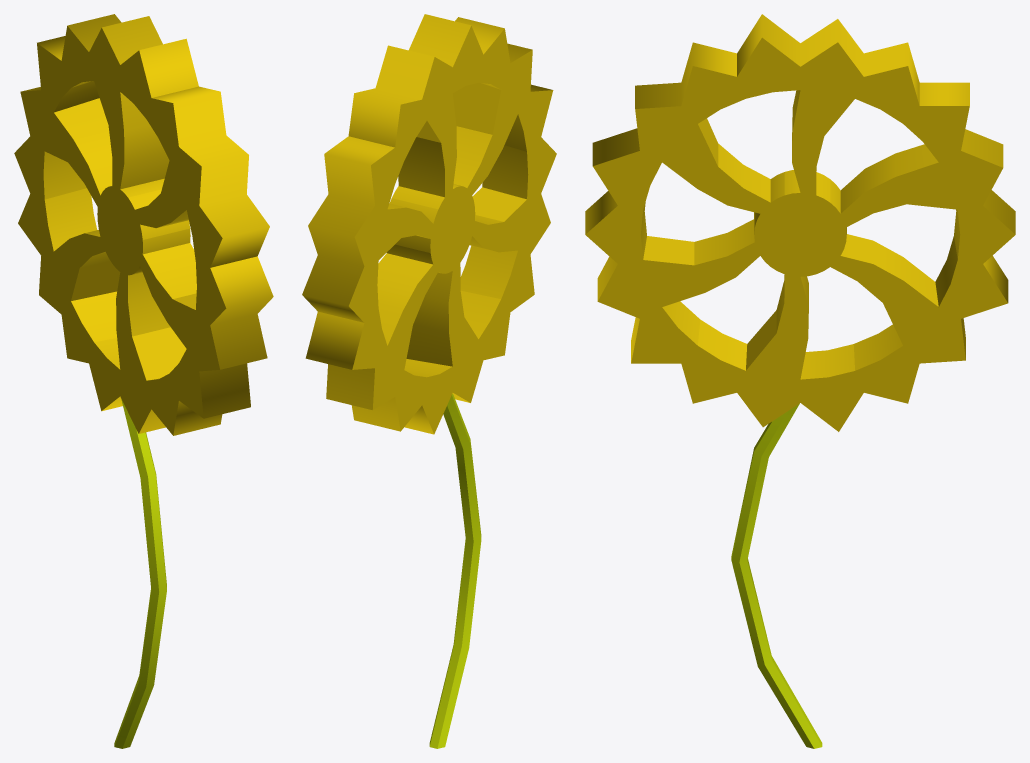
The model's file is flower2.fbx.
3 renders of one model, left to right at view 1: azimuth 30°, elevation 25°; view 2: azimuth 150°, elevation 25°; view 3: azimuth 270°, elevation 25°, orthographic. The views are drawn at different scales.
Visible parts, largest first — view 1: pCylinder215, pCylinder214, pCylinder219, pCylinder217, pCylinder218, pCylinder216, pCylinder315; view 2: pCylinder219, pCylinder218, pCylinder217, pCylinder215, pCylinder216, pCylinder214, pCylinder315; view 3: pCylinder214, pCylinder218, pCylinder219, pCylinder215, pCylinder217, pCylinder216, pCylinder315.
Part boxes in pixels (bbox=[...]): pCylinder215: bbox=[120, 228, 273, 418]; pCylinder214: bbox=[120, 86, 269, 267]; pCylinder219: bbox=[61, 14, 198, 230]; pCylinder217: bbox=[18, 188, 120, 363]; pCylinder218: bbox=[14, 36, 119, 230]; pCylinder216: bbox=[89, 231, 222, 435]; pCylinder315: bbox=[114, 399, 166, 748]; pCylinder219: bbox=[348, 14, 483, 229]; pCylinder218: bbox=[302, 136, 452, 322]; pCylinder217: bbox=[305, 230, 452, 431]; pCylinder215: bbox=[453, 137, 556, 311]; pCylinder216: bbox=[404, 230, 510, 434]; pCylinder214: bbox=[453, 17, 553, 229]; pCylinder315: bbox=[429, 394, 481, 748]; pCylinder214: bbox=[592, 42, 800, 234]; pCylinder218: bbox=[801, 82, 1015, 263]; pCylinder219: bbox=[737, 14, 919, 234]; pCylinder215: bbox=[585, 191, 799, 363]; pCylinder217: bbox=[800, 234, 1008, 403]; pCylinder216: bbox=[681, 235, 863, 431]; pCylinder315: bbox=[731, 403, 822, 748].
Bounding box in the file's own units: 0.3 × 4.32 × 2.32.
